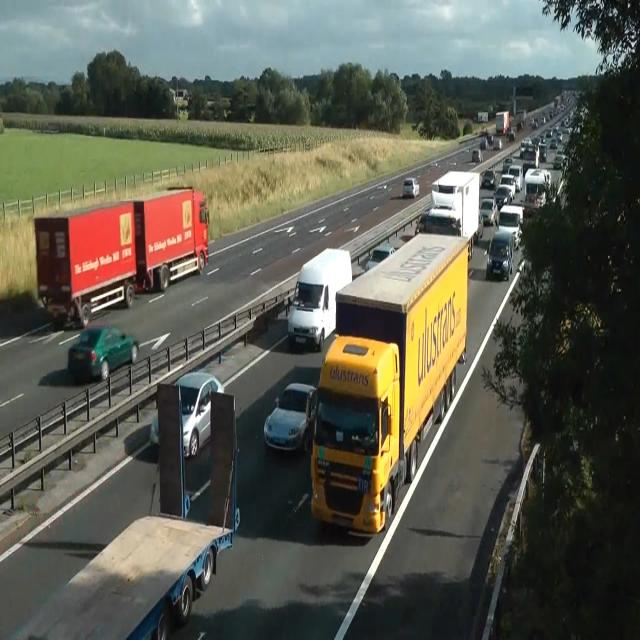bus: (150, 371, 224, 458), (67, 325, 139, 383), (263, 382, 317, 454), (364, 244, 396, 272), (492, 184, 510, 210), (402, 177, 420, 198), (414, 210, 428, 234), (474, 211, 484, 241), (481, 169, 495, 187), (553, 153, 567, 169), (502, 156, 513, 172), (506, 127, 515, 141)
jeep: (486, 230, 514, 280)
minibus: (0, 373, 240, 639), (309, 231, 469, 534), (34, 186, 210, 328), (287, 247, 353, 352), (415, 170, 481, 260), (522, 168, 552, 214), (496, 110, 510, 134), (472, 148, 482, 162), (477, 111, 488, 123)
